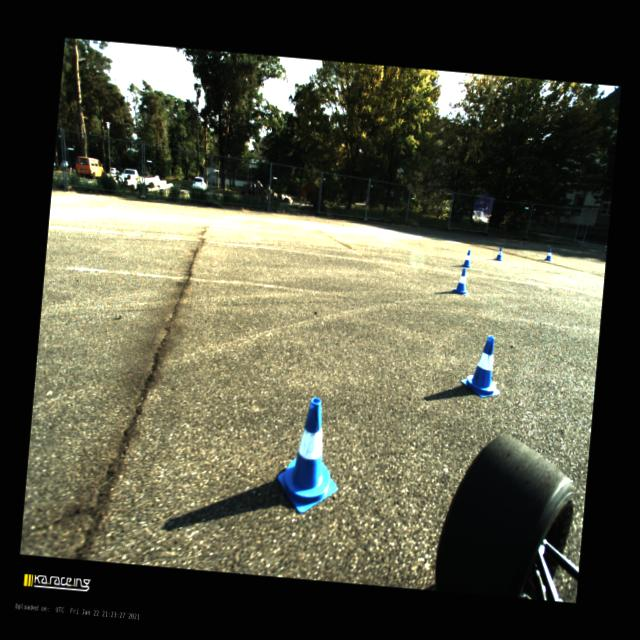blue_cone: (274, 395, 344, 515), (460, 334, 504, 399), (452, 266, 468, 294), (462, 248, 472, 266), (494, 247, 502, 260), (544, 248, 552, 260)
